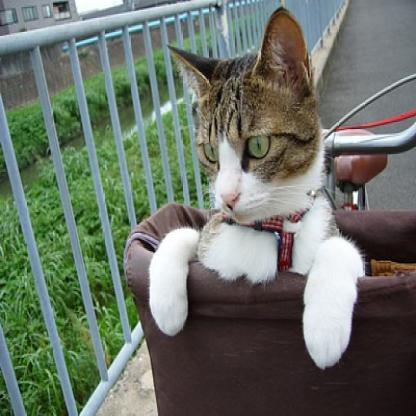cat: (150, 25, 364, 367)
